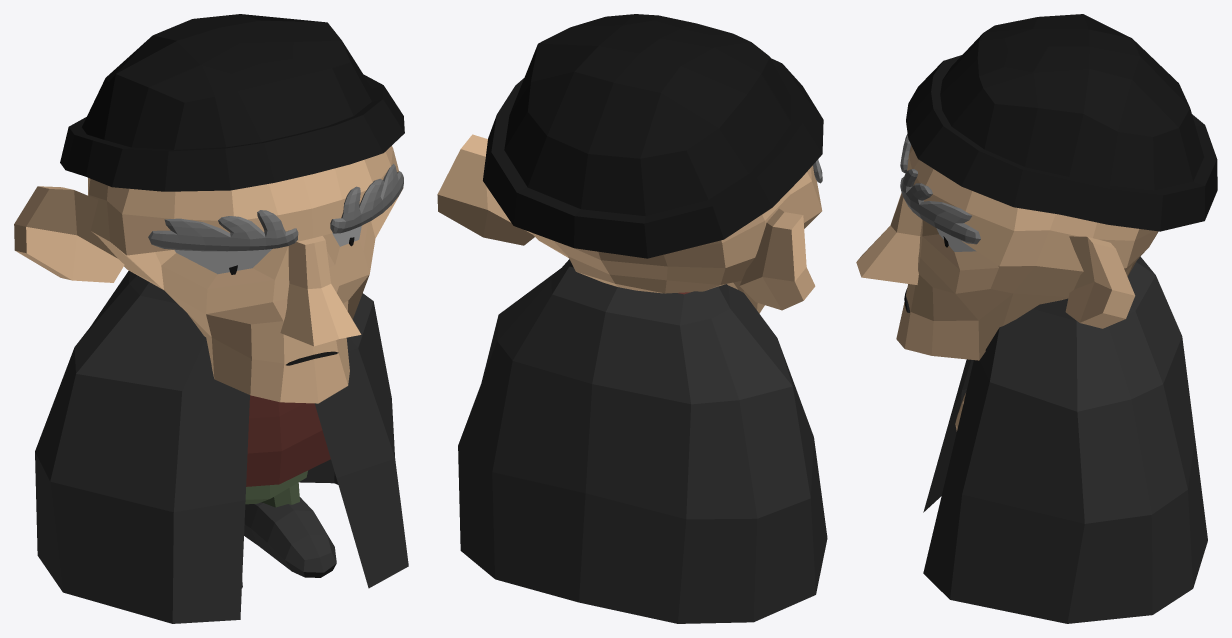
File: Old_Man_FBX.fbx
3 views of the same model, side by side, from view 1: azimuth 30°, elevation 25°; view 2: azimuth 150°, elevation 25°; view 3: azimuth 270°, elevation 25° (orthographic). The views are drawn at different scales.
Visible parts, largest first — view 1: Cape, Hat, Head, Ears, Eyebrows, Body, Nose, Shoes, Eyes, Pants; view 2: Cape, Hat, Ears, Head; view 3: Cape, Hat, Head, Ears, Nose, Eyebrows.
Boxes of the visible parts, x1,y1,x2,y2 form: Cape: (35,271,408,623); Hat: (60,14,404,191); Head: (88,146,403,403); Ears: (14,186,124,282); Eyebrows: (148,163,403,251); Body: (246,395,330,486); Nose: (280,236,361,346); Shoes: (242,497,336,587); Eyes: (174,226,361,274); Pants: (245,470,307,504); Cape: (458,259,827,623); Hat: (483,14,823,258); Ears: (437,134,815,310); Head: (531,165,822,313); Cape: (923,256,1207,623); Hat: (906,14,1217,231); Head: (896,145,1158,360); Ears: (1065,236,1135,328); Nose: (856,193,921,284); Eyebrows: (900,133,980,244).
Size of the model in its own units: 389 by 444 by 600.
